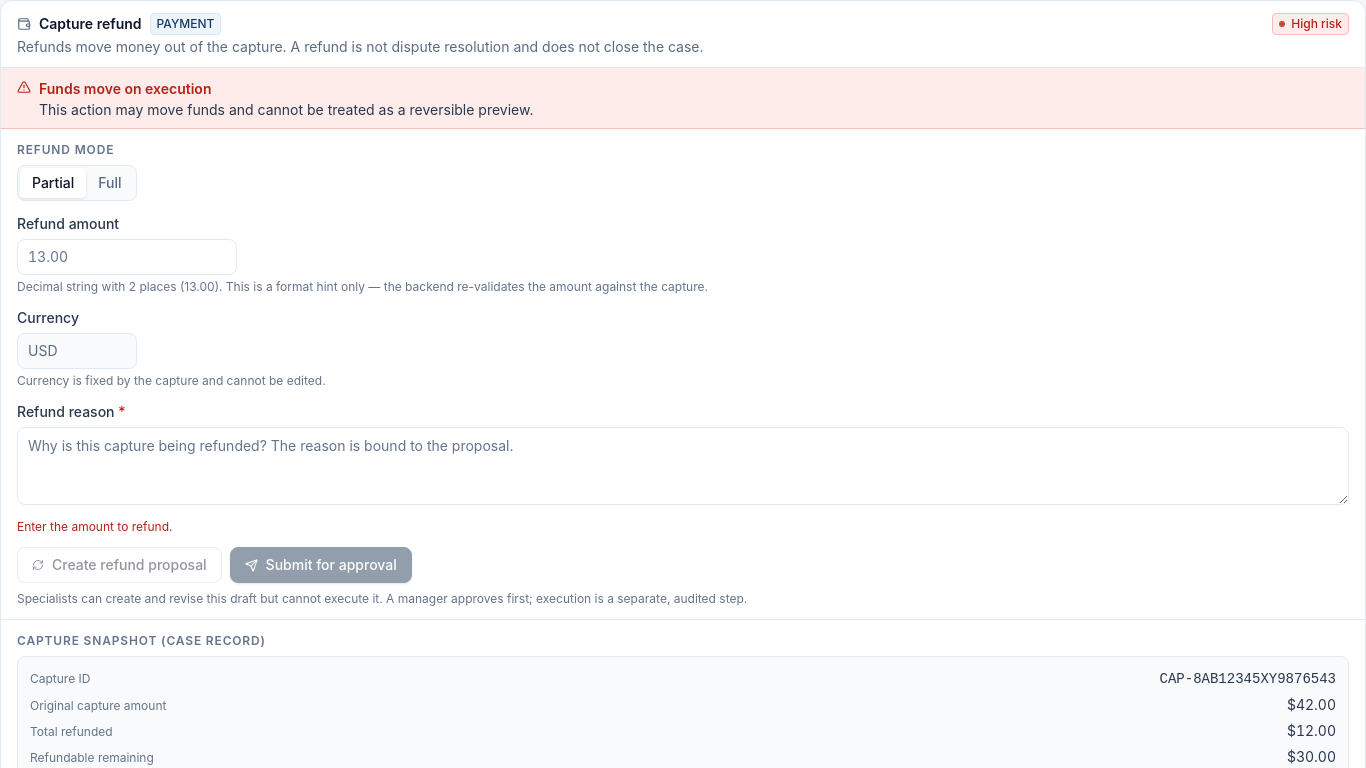
refund — amount rules › keeps Full mode non-editable and shows the remaining refundable amount
The width and height of the screenshot is (1366, 768).
Click the radio button labelled "Full": [110, 183] box [86,168,134,198]
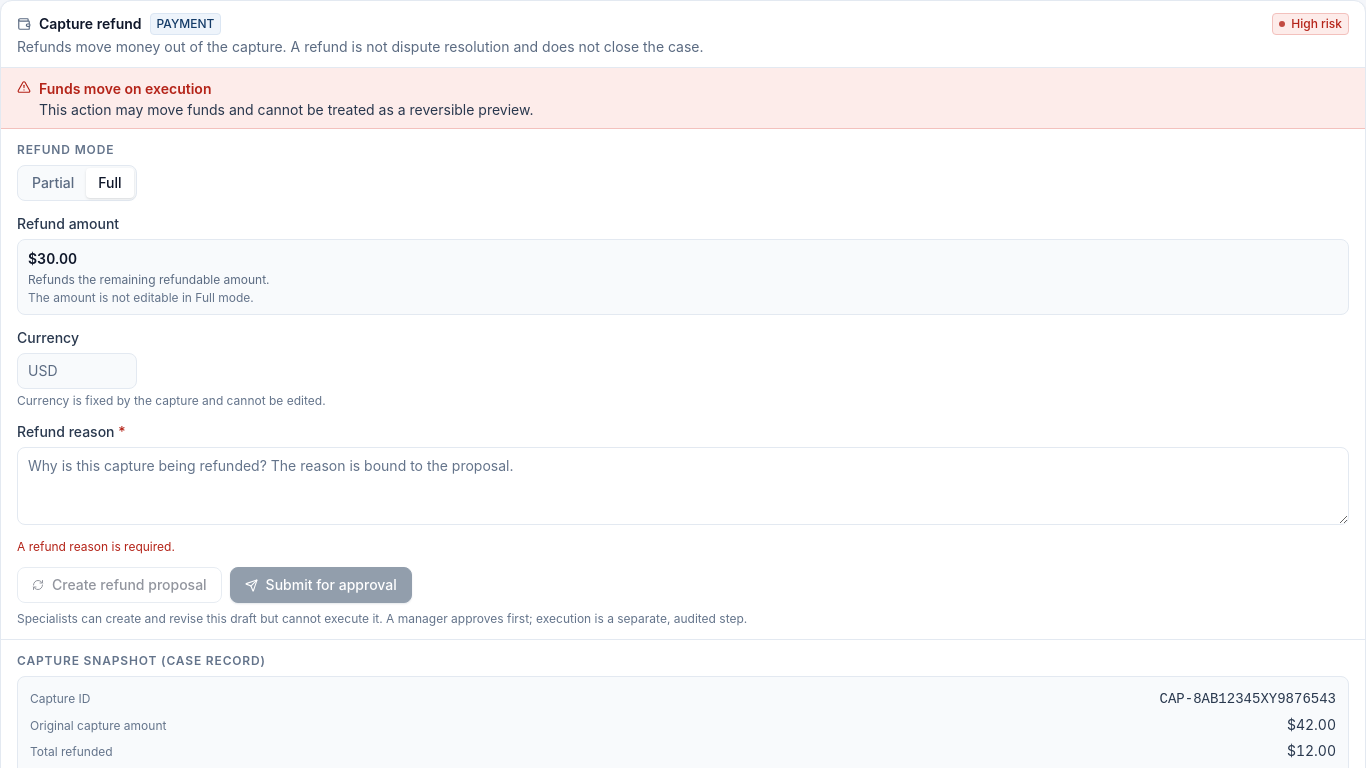
expect the field labelled "Currency" holds "USD": met, box [17,353,137,389]
expect the element with test id "refund-full-amount" shows "Refunds the remaining refundable amount.": met, box [28,272,270,287]
expect the element with test id "refund-full-amount" shows "$30.00": met, box [28,250,77,267]
